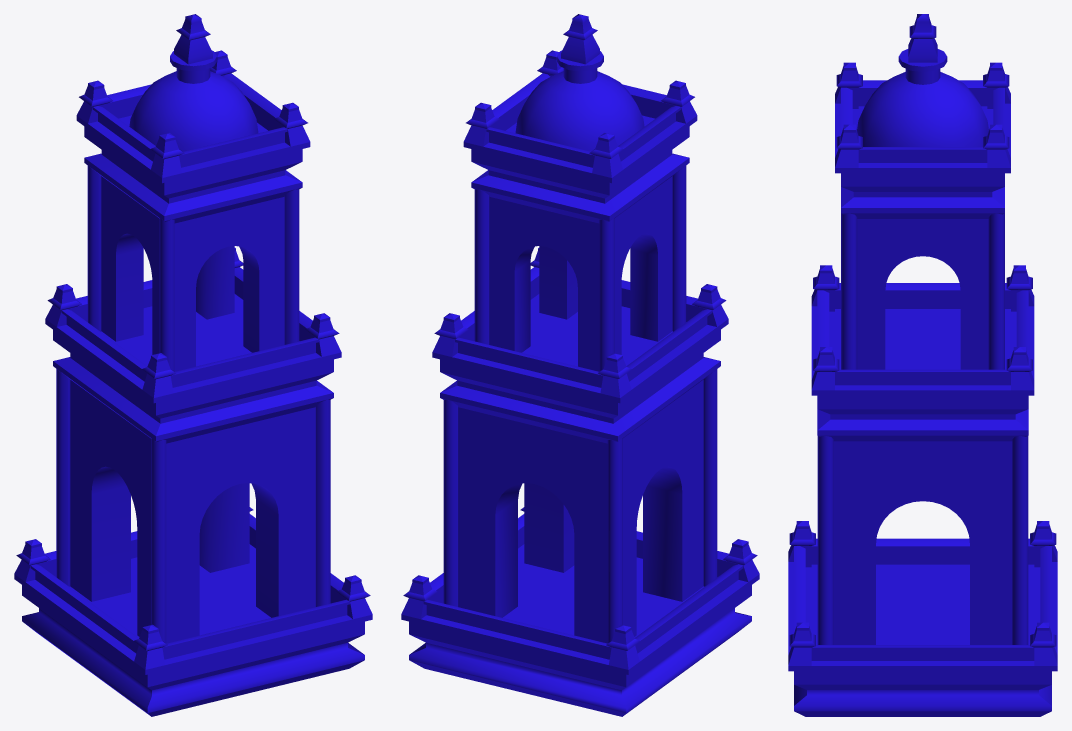
The model's file is ChurchTower.fbx.
The picture shows the model from 3 angles, left to right: view 1: azimuth 30°, elevation 25°; view 2: azimuth 150°, elevation 25°; view 3: azimuth 270°, elevation 25°; orthographic projection. The views are drawn at different scales.
Visible parts, largest first — view 1: ChurchTower.001; view 2: ChurchTower.001; view 3: ChurchTower.001.
Boxes of the visible parts, <box> form: ChurchTower.001: <box>14,14,372,716</box>; ChurchTower.001: <box>401,14,759,716</box>; ChurchTower.001: <box>788,14,1057,716</box>.
Bounding box in the file's own units: 460 × 1230 × 460.
